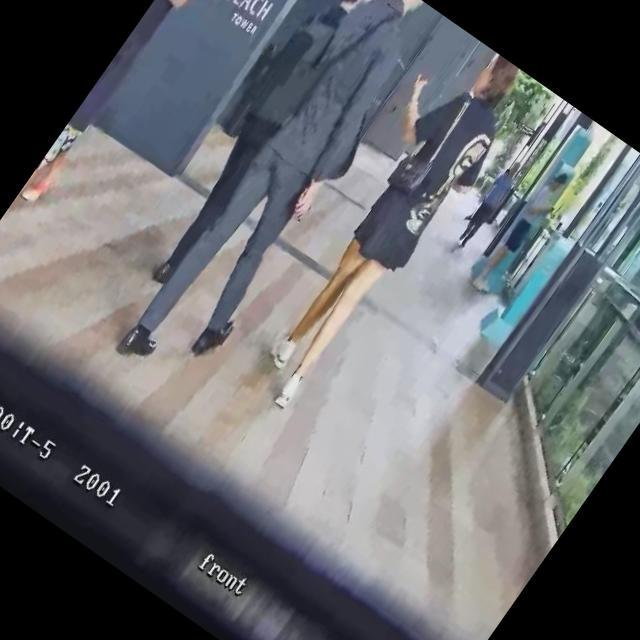person: (112, 0, 450, 399), (216, 24, 543, 426), (128, 0, 377, 294), (15, 0, 253, 214), (464, 160, 574, 300), (449, 156, 526, 253)
